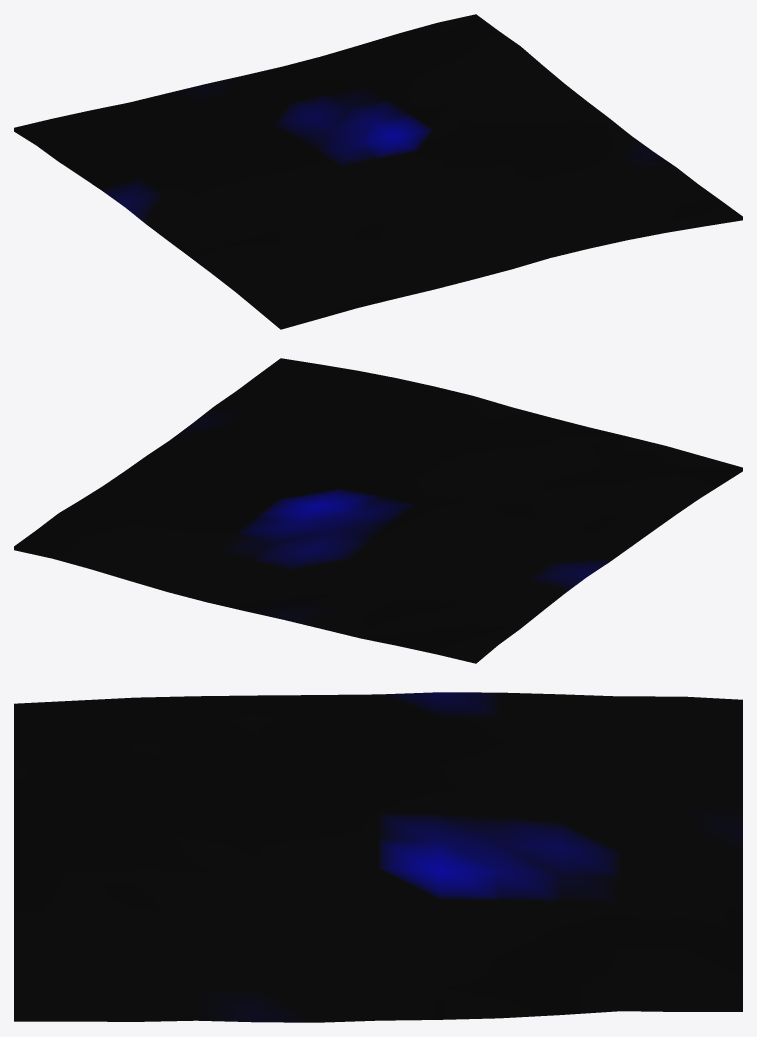
Rendered from coast_9_4.glb.
3 renders of one model, top to bottom at view 1: azimuth 30°, elevation 25°; view 2: azimuth 150°, elevation 25°; view 3: azimuth 270°, elevation 25°, orthographic. The views are drawn at different scales.
Parts seen in each view (by area): view 1: terrain; view 2: terrain; view 3: terrain.
Part boxes in pixels (bbox=[...]): terrain: bbox=[14, 14, 742, 329]; terrain: bbox=[14, 358, 742, 663]; terrain: bbox=[14, 692, 742, 1022].
Size of the model in its own units: 192 by 8.77 by 192.
